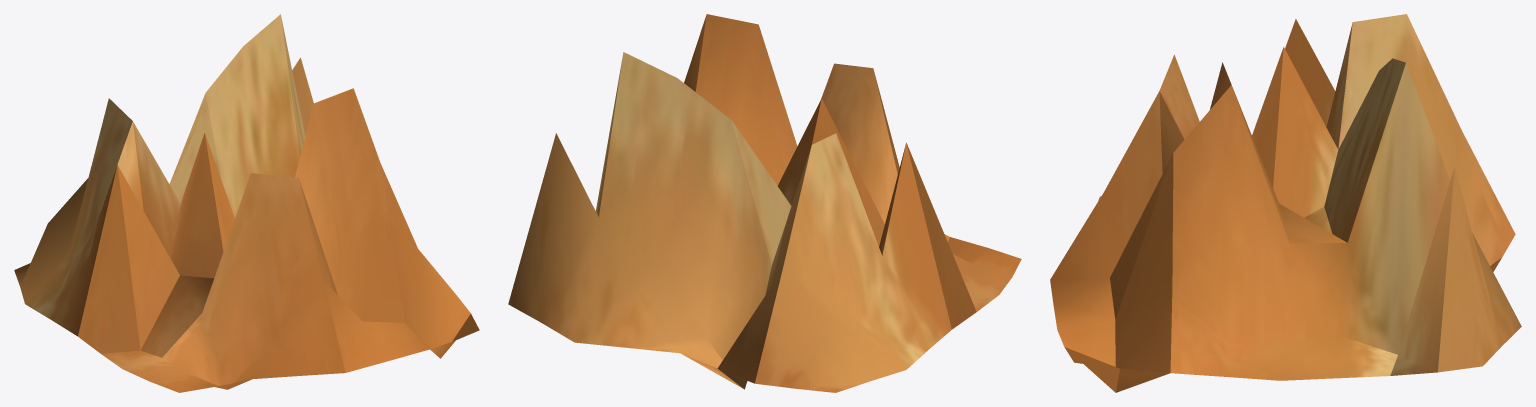
File: stalagmite_005.fbx
3 renders of one model, left to right at view 1: azimuth 30°, elevation 25°; view 2: azimuth 150°, elevation 25°; view 3: azimuth 270°, elevation 25°, orthographic. The views are drawn at different scales.
Parts seen in each view (by area): view 1: stalagmite.005; view 2: stalagmite.005; view 3: stalagmite.005.
Part boxes in pixels (x1=…): stalagmite.005: x1=14, y1=14, x2=479, y2=392; stalagmite.005: x1=508, y1=14, x2=1021, y2=392; stalagmite.005: x1=1050, y1=14, x2=1521, y2=392.
Size of the model in its own units: 202 by 147 by 203.
